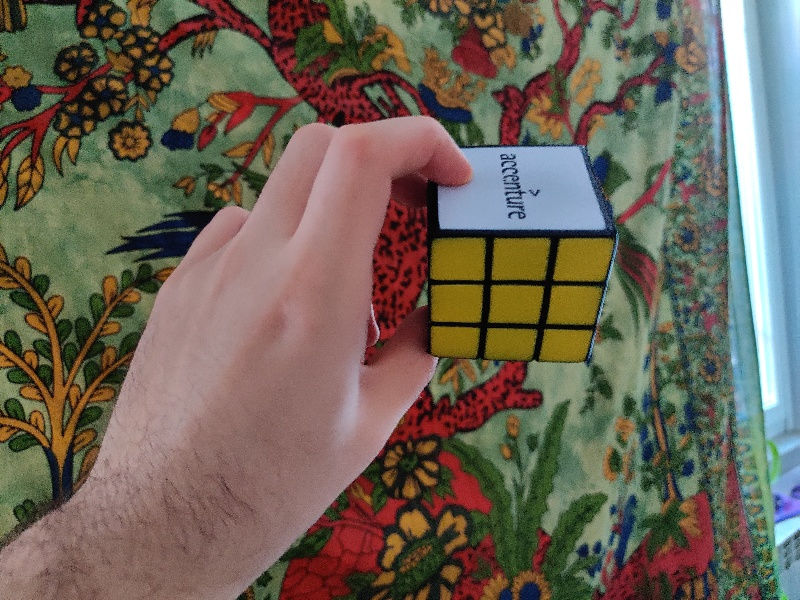rubik: (426, 143, 620, 363)
